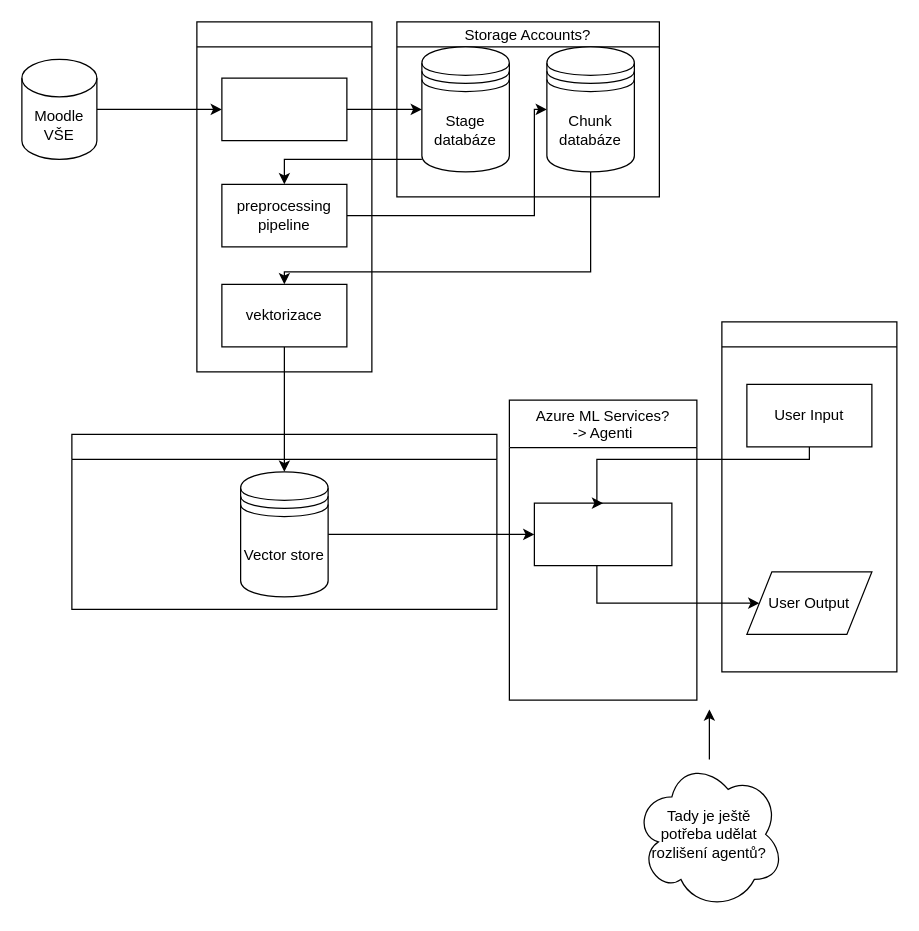
This 919x931 diagram has some shape labels left out. The box of each missing label's shape, as (x1, y1, x2, y2) in pixels:
Cosmos DB? (ale nemusí být, je to jen doporučená extension): (71, 433, 497, 609)
Data Factories?: (196, 21, 372, 372)
ETL pipeline (diplomka už je?): (221, 77, 347, 141)
RAG a Promp engineering: (533, 502, 672, 566)
Teams: (721, 321, 897, 672)
